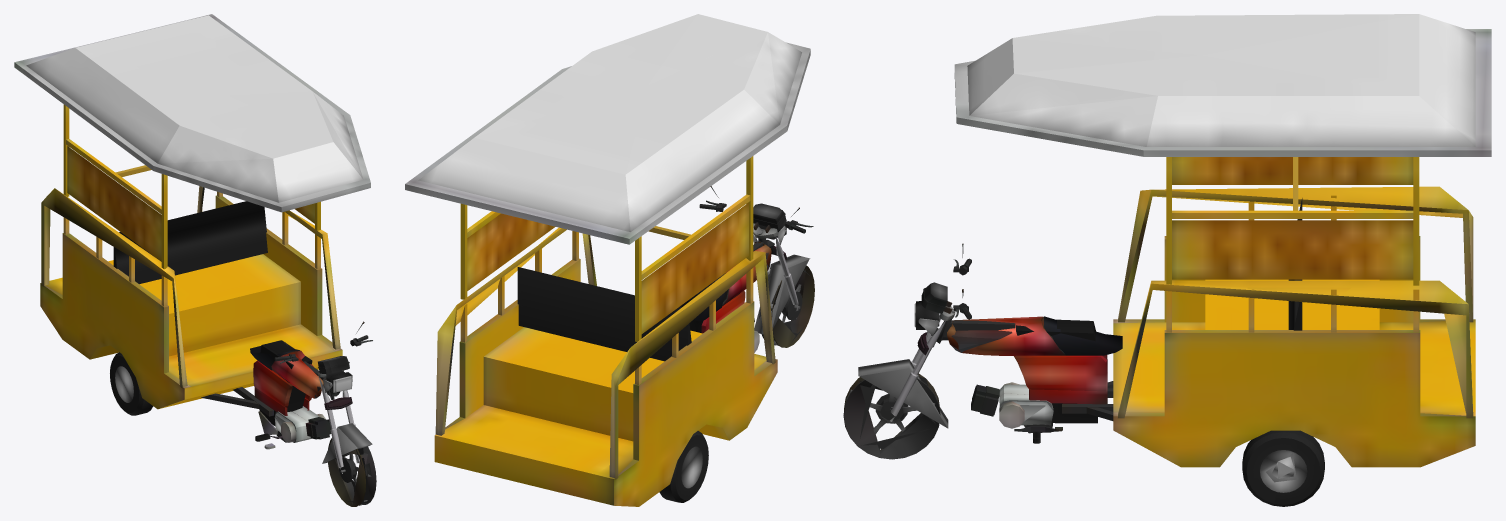
Rendered from v_tuk_lo.glb.
3 views of the same model, side by side, from view 1: azimuth 30°, elevation 25°; view 2: azimuth 150°, elevation 25°; view 3: azimuth 270°, elevation 25° (orthographic). The views are drawn at different scales.
Visible parts, largest first — view 1: Qingqi_04 - Default_0; view 2: Qingqi_04 - Default_0; view 3: Qingqi_04 - Default_0.
Boxes of the visible parts, <box> form: Qingqi_04 - Default_0: <box>14,14,376,506</box>; Qingqi_04 - Default_0: <box>405,14,814,506</box>; Qingqi_04 - Default_0: <box>843,14,1491,506</box>.
Bounding box in the file's own units: 648 × 1021 × 1463.
1 material, 1 textured.
